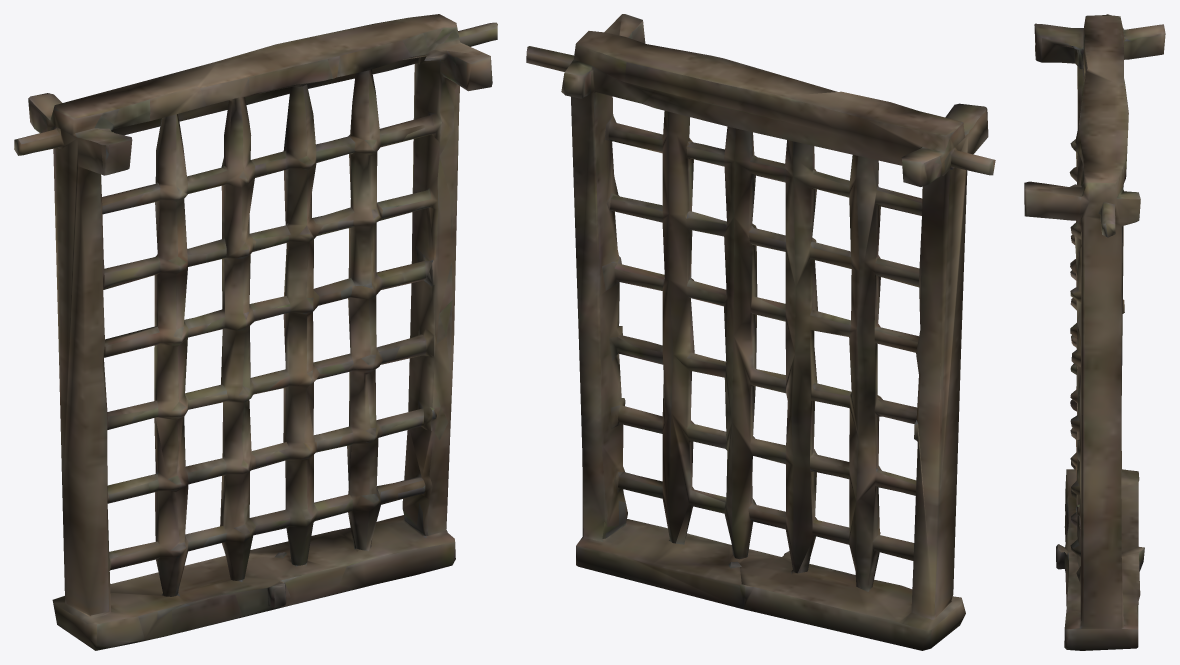
File: chipped-wood-portcullis-v001.glb
3 renders of one model, left to right at view 1: azimuth 30°, elevation 25°; view 2: azimuth 150°, elevation 25°; view 3: azimuth 270°, elevation 25°, orthographic. The views are drawn at different scales.
Parts seen in each view (by area): view 1: chipped-wood-portcullis; view 2: chipped-wood-portcullis; view 3: chipped-wood-portcullis.
Part boxes in pixels (x1=…): chipped-wood-portcullis: x1=14, y1=14, x2=497, y2=650; chipped-wood-portcullis: x1=526, y1=14, x2=995, y2=650; chipped-wood-portcullis: x1=1024, y1=14, x2=1165, y2=650.
Bounding box in the file's own units: 2.86 × 3.04 × 0.8166.
1 material, 1 textured.
